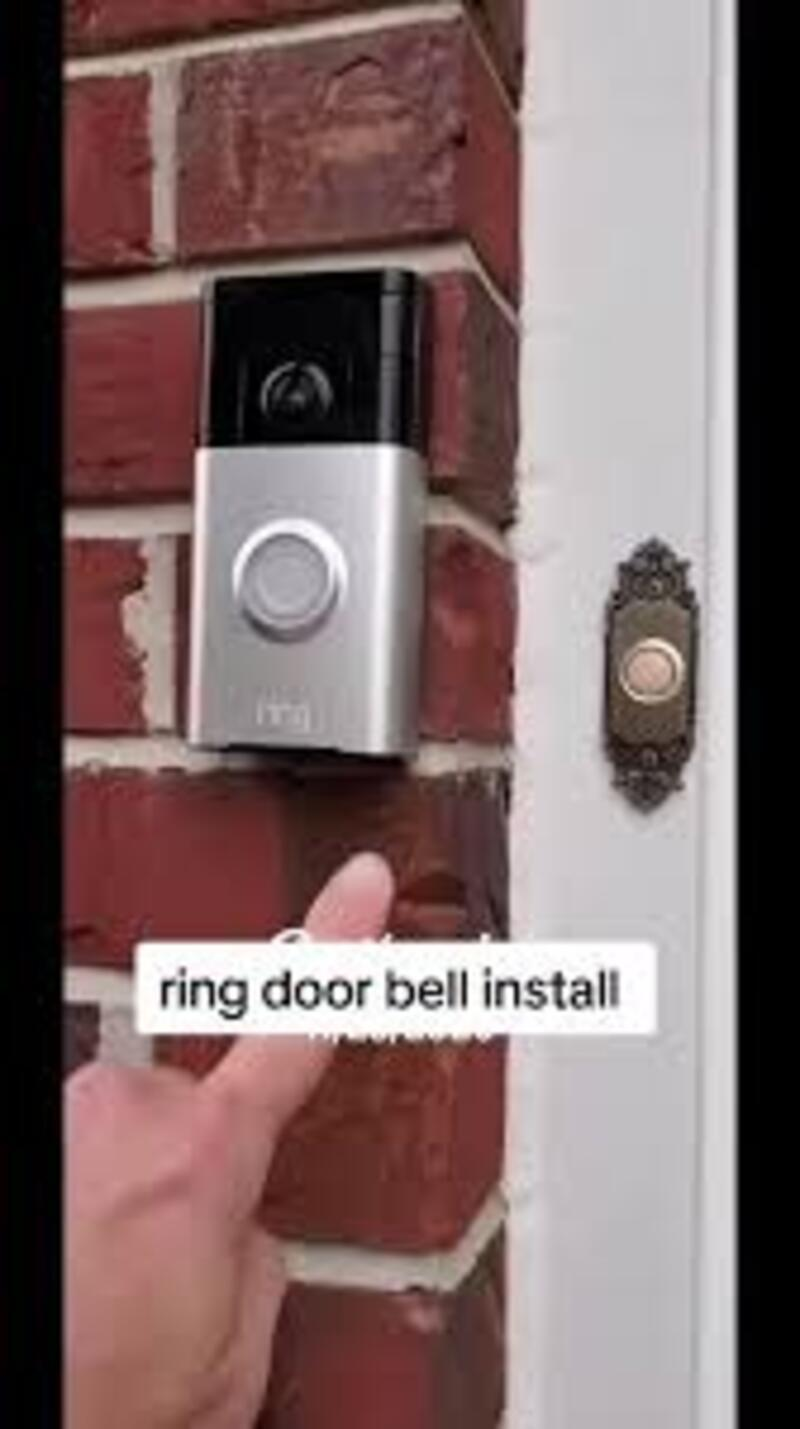doorbell: (194, 264, 441, 774)
